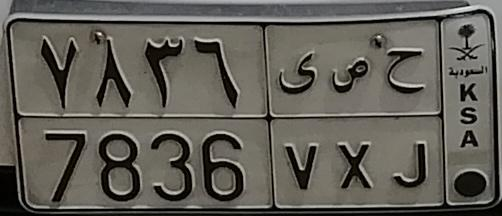3: (144, 36, 195, 203)
6: (193, 34, 248, 202)
7: (38, 34, 87, 203)
8: (95, 36, 144, 202)
J: (386, 46, 428, 188)
V: (278, 50, 321, 191)
X: (329, 57, 374, 189)
